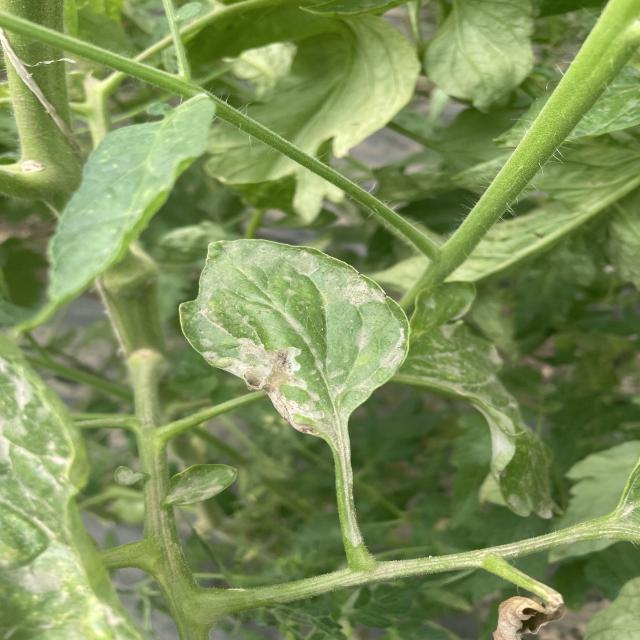Tuta absoluta: (224, 325, 347, 424)
